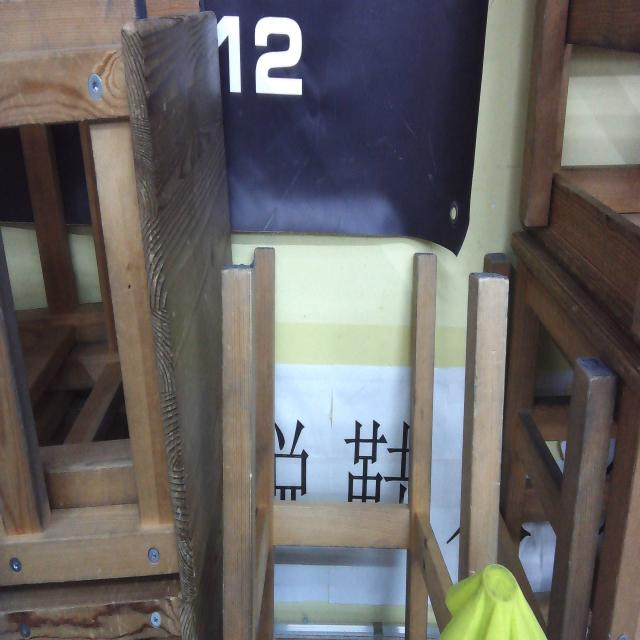Yellow-Stake-Head: (439, 563, 548, 639)
